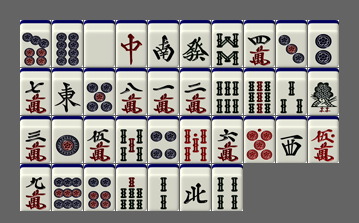0m: (308, 116, 339, 163)
0p: (244, 116, 275, 163)
0s: (180, 116, 211, 163)
1m: (148, 68, 179, 115)
1p: (52, 116, 83, 163)
1s: (308, 68, 339, 115)
1z: (52, 68, 83, 115)
2m: (180, 68, 211, 115)
2p: (308, 20, 339, 67)
2s: (148, 164, 179, 211)
2z: (148, 20, 179, 67)
3m: (20, 116, 51, 163)
3p: (276, 20, 307, 67)
3s: (276, 68, 307, 115)
3z: (276, 116, 307, 163)
4m: (244, 20, 275, 67)
4p: (148, 116, 179, 163)
4s: (212, 164, 243, 211)
4z: (180, 164, 211, 211)
5m: (84, 116, 115, 163)
5p: (84, 68, 115, 115)
5s: (116, 116, 147, 163)
5z: (84, 20, 115, 67)
6m: (212, 116, 243, 163)
6p: (84, 164, 115, 211)
6s: (212, 68, 243, 115)
6z: (180, 20, 211, 67)
7m: (20, 68, 51, 115)
7p: (20, 20, 51, 67)
7s: (116, 164, 147, 211)
7z: (116, 20, 147, 67)
8m: (116, 68, 147, 115)
8p: (52, 20, 83, 67)
8s: (212, 20, 243, 67)
9m: (20, 164, 51, 211)
9p: (52, 164, 83, 211)
9s: (244, 68, 275, 115)
